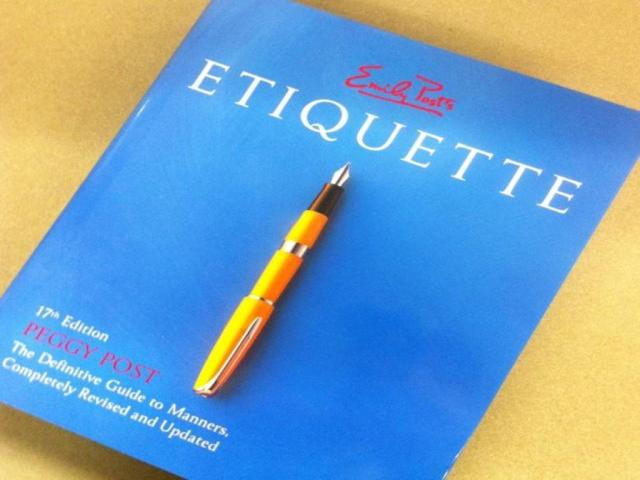PEN: (181, 156, 356, 398)
